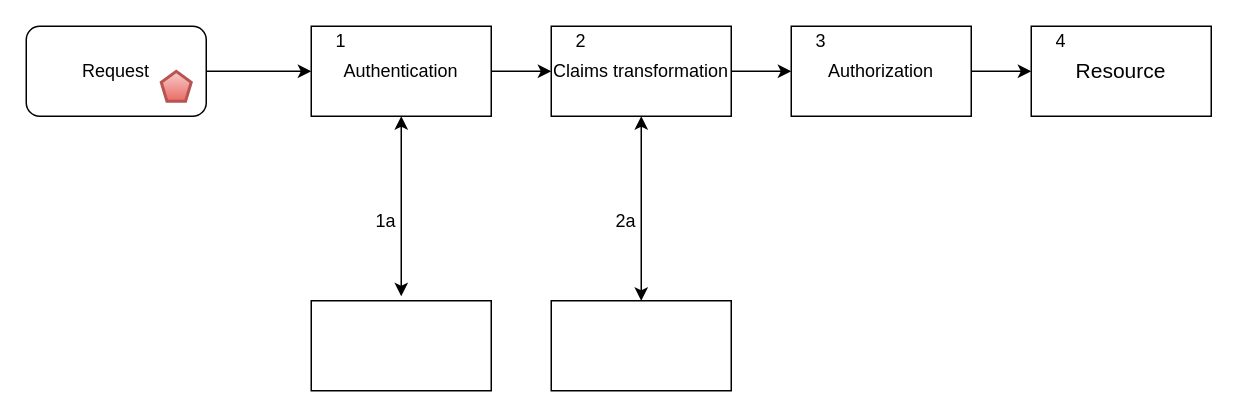
Some shapes in this 1238 by 417 pixel diagram are drawn without their labels. The shapes that lost their labels are listed below. From the top down, each one's centre as x and y in pixels, then its label:
At point (400, 345): "Token issuer".
At point (640, 345): "PDP".
